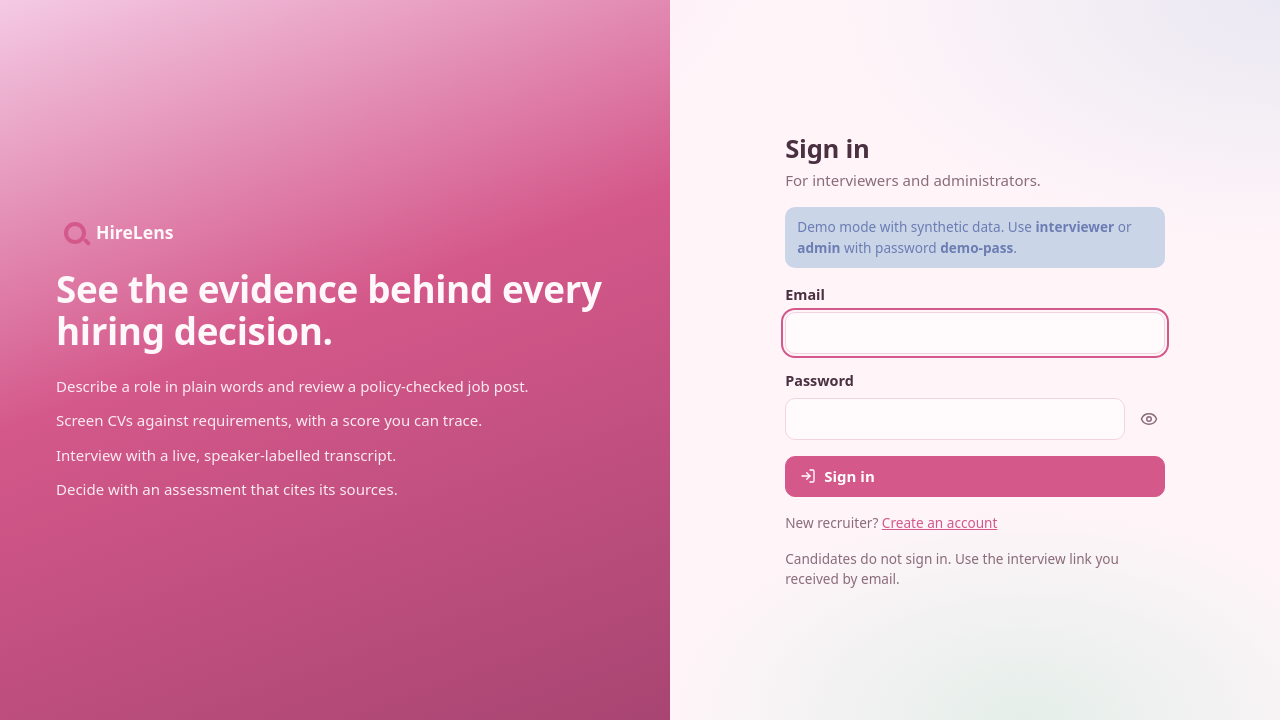
Test case: app in demo mode › redirects to login, rejects bad credentials, then signs in
expect the heading "Sign in" is shown: met, box [785,131,870,166]
Step 1. Type "interviewer" into the field labelled "Email" → [975, 333], box [785,312,1165,354]
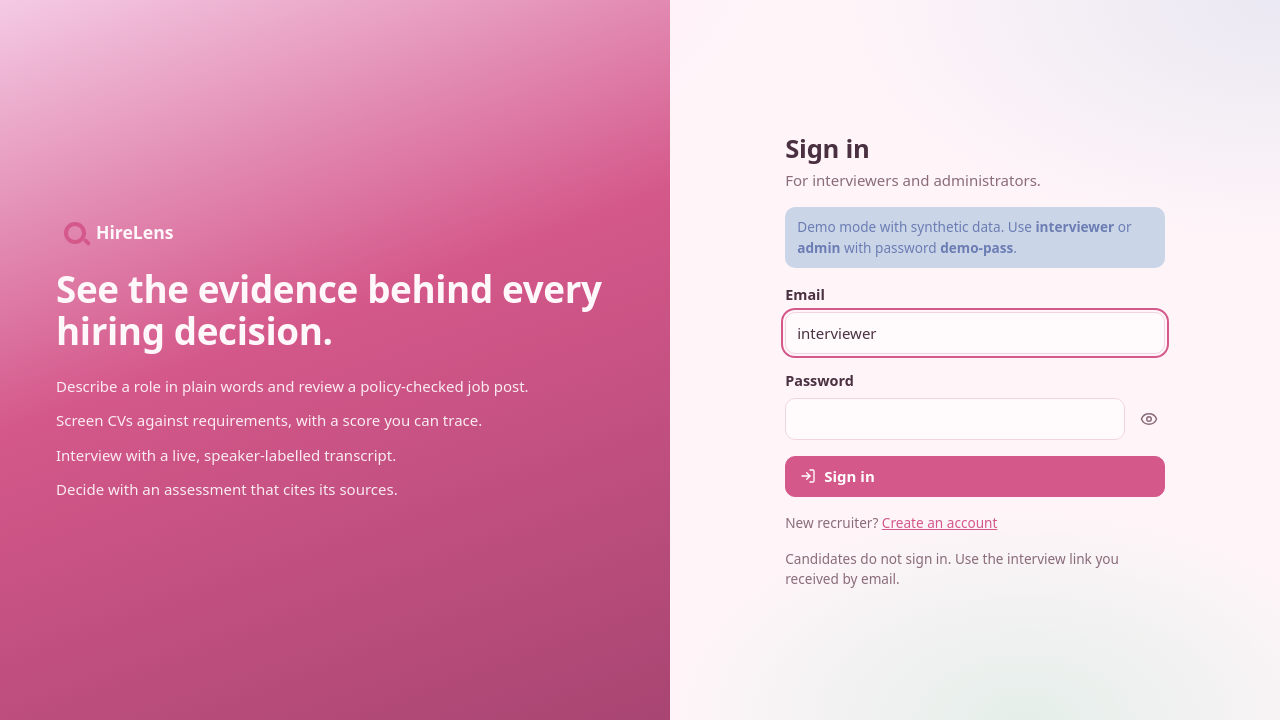
Step 2. Type "wrong" into the password field labelled "Password" → [955, 419], box [785,398,1125,440]
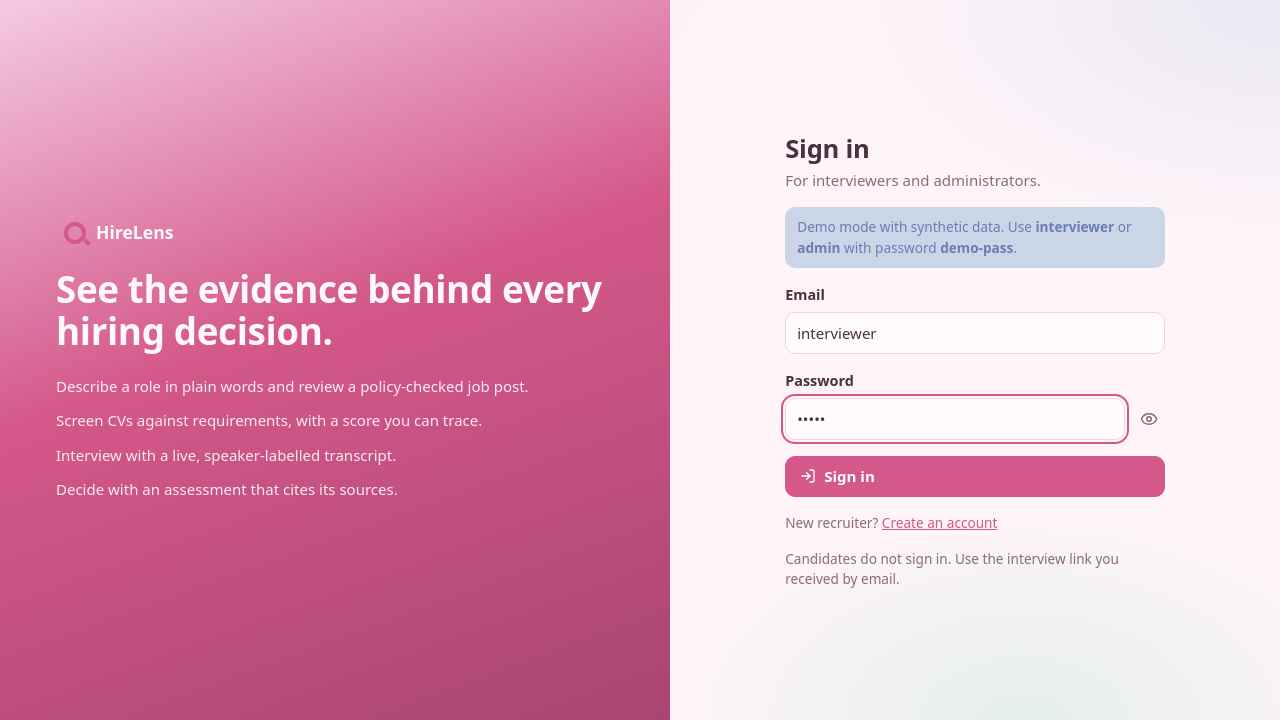
Step 3. Click the button "Sign in" → [850, 476], box [785,456,1165,497]
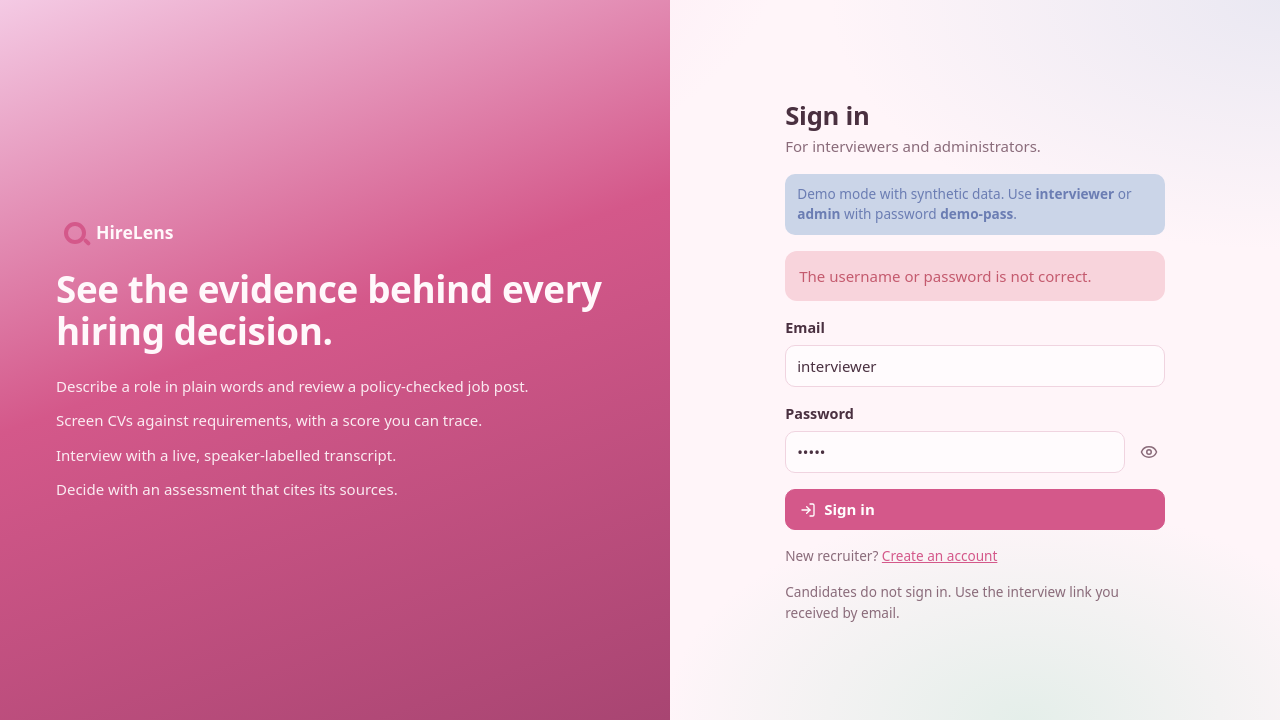
expect the text "The username or password is not correct." is shown: met, box [785,251,1165,301]
Step 4. Type "demo-pass" into the password field labelled "Password" → [955, 452], box [785,431,1125,473]
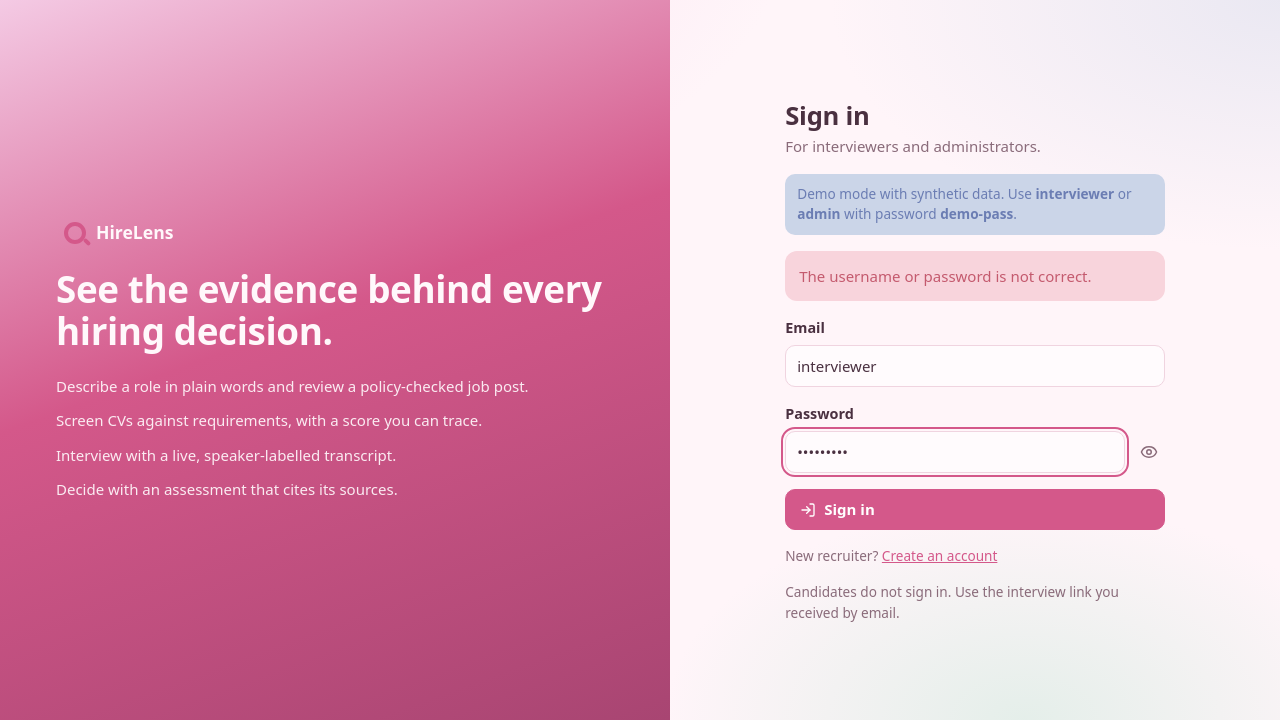
Step 5. Click the button "Sign in" → [850, 509], box [785,489,1165,530]
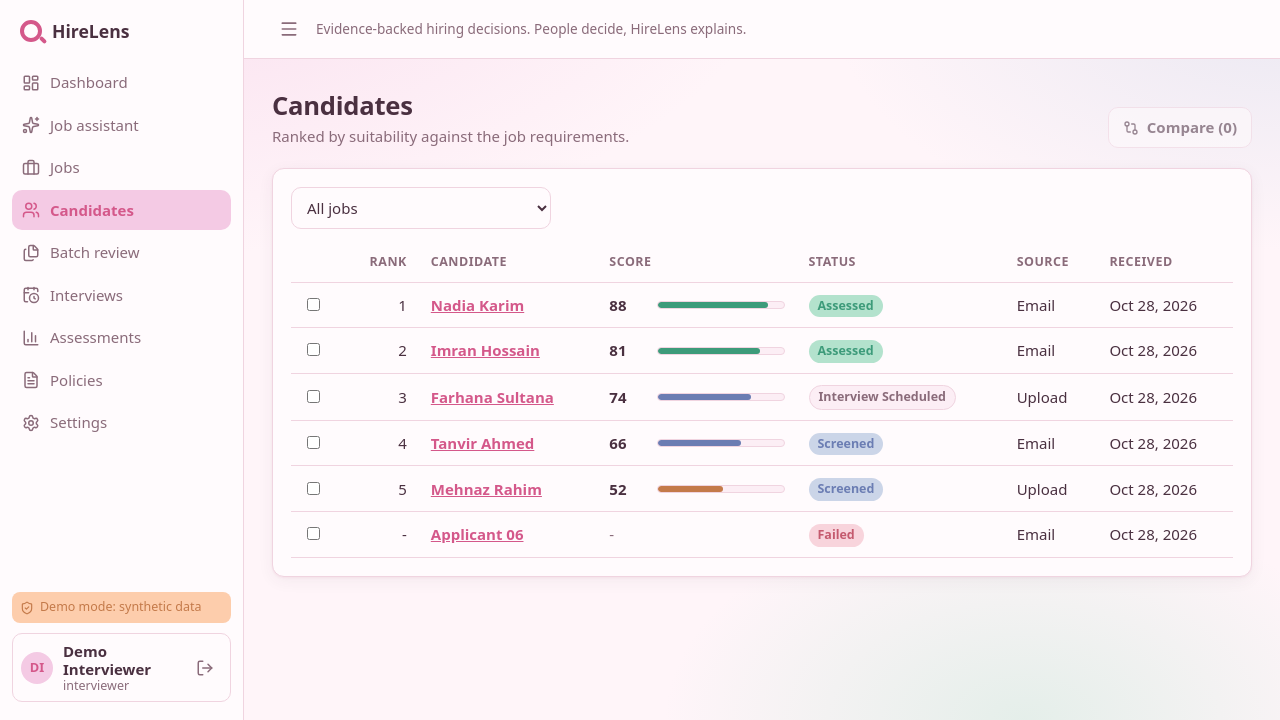
expect the heading "Candidates" is shown: met, box [272,88,413,123]
